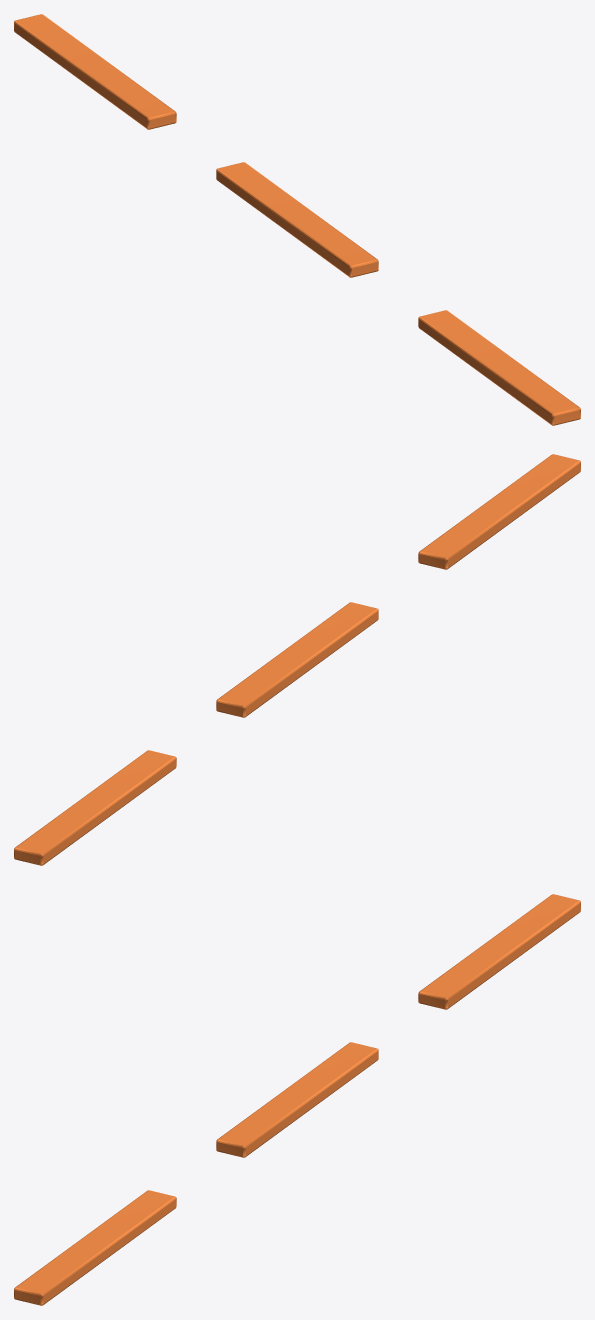
File: tokyo-lights-right.glb
The picture shows the model from 3 angles, top to bottom: view 1: azimuth 30°, elevation 25°; view 2: azimuth 150°, elevation 25°; view 3: azimuth 330°, elevation 25°; orthographic projection.
Visible parts, largest first — view 1: tokyo-lights-right/Interior hanging strip lamp.021, tokyo-lights-right/Interior hanging strip lamp.023, tokyo-lights-right/Interior hanging strip lamp.022; view 2: tokyo-lights-right/Interior hanging strip lamp.021, tokyo-lights-right/Interior hanging strip lamp.023, tokyo-lights-right/Interior hanging strip lamp.022; view 3: tokyo-lights-right/Interior hanging strip lamp.021, tokyo-lights-right/Interior hanging strip lamp.023, tokyo-lights-right/Interior hanging strip lamp.022.
Boxes of the visible parts, box(x1,y1,x2,y2) form: tokyo-lights-right/Interior hanging strip lamp.021: box(418, 310, 580, 425); tokyo-lights-right/Interior hanging strip lamp.023: box(14, 14, 176, 129); tokyo-lights-right/Interior hanging strip lamp.022: box(216, 162, 378, 277); tokyo-lights-right/Interior hanging strip lamp.021: box(418, 454, 580, 569); tokyo-lights-right/Interior hanging strip lamp.023: box(14, 750, 176, 865); tokyo-lights-right/Interior hanging strip lamp.022: box(216, 602, 378, 717); tokyo-lights-right/Interior hanging strip lamp.021: box(14, 1190, 176, 1305); tokyo-lights-right/Interior hanging strip lamp.023: box(418, 894, 580, 1009); tokyo-lights-right/Interior hanging strip lamp.022: box(216, 1042, 378, 1157).
Size of the model in its own units: 0.09 by 0.035 by 2.88.
